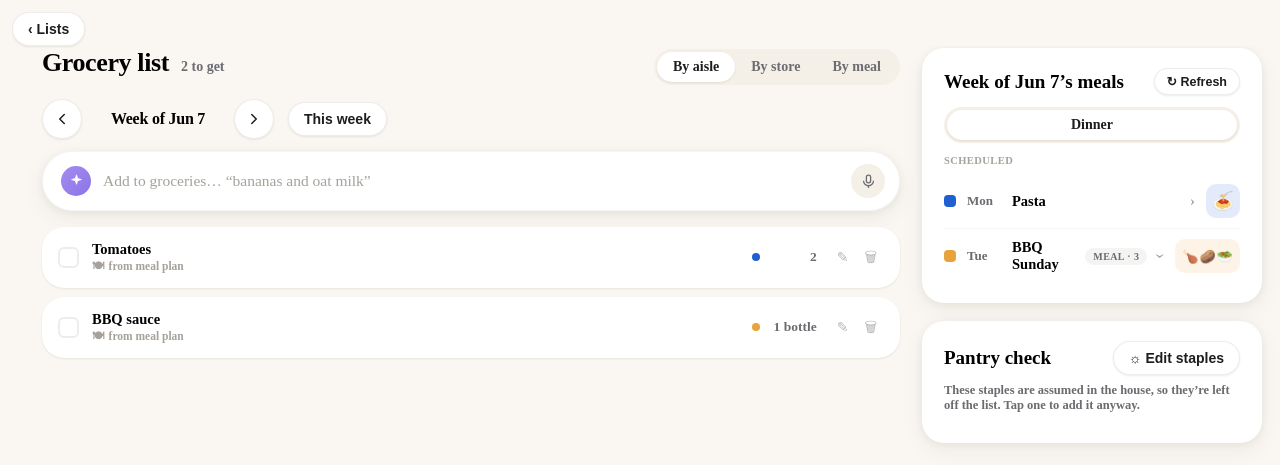
Test: GroceryBoard By-meal grouping with plates › groups a scheduled plate’s items under the plate, not "Other items"
Expected: the text "BBQ sauce" is shown, 92,311 -> 160,327
Step 1. Click the button "By meal" → (857, 67), box 816,52 -> 897,82
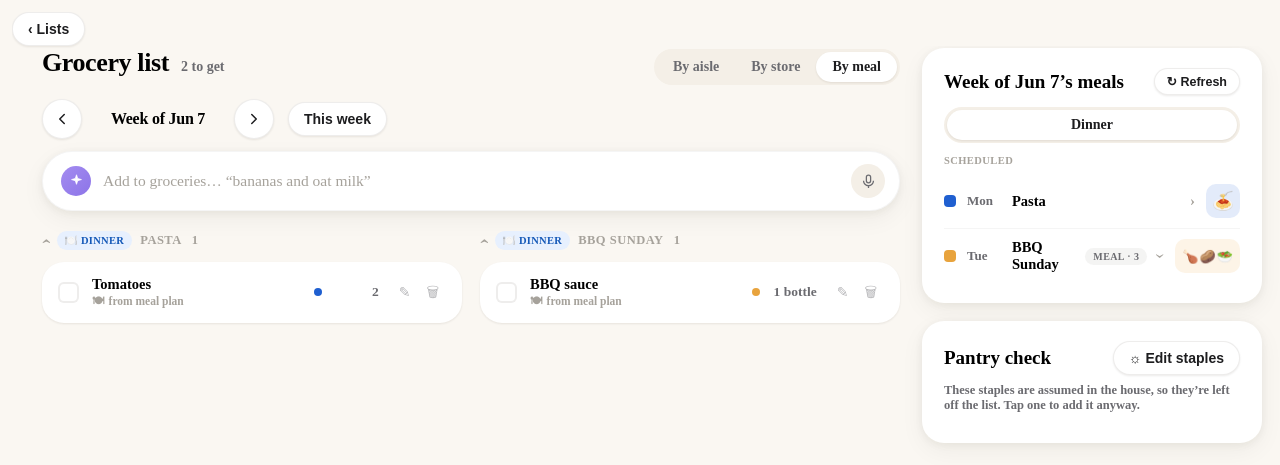
Expected: the text "BBQ sauce" is shown, 530,276 -> 598,292
Expected: the text "BBQ Sunday" is shown, 578,233 -> 664,247
